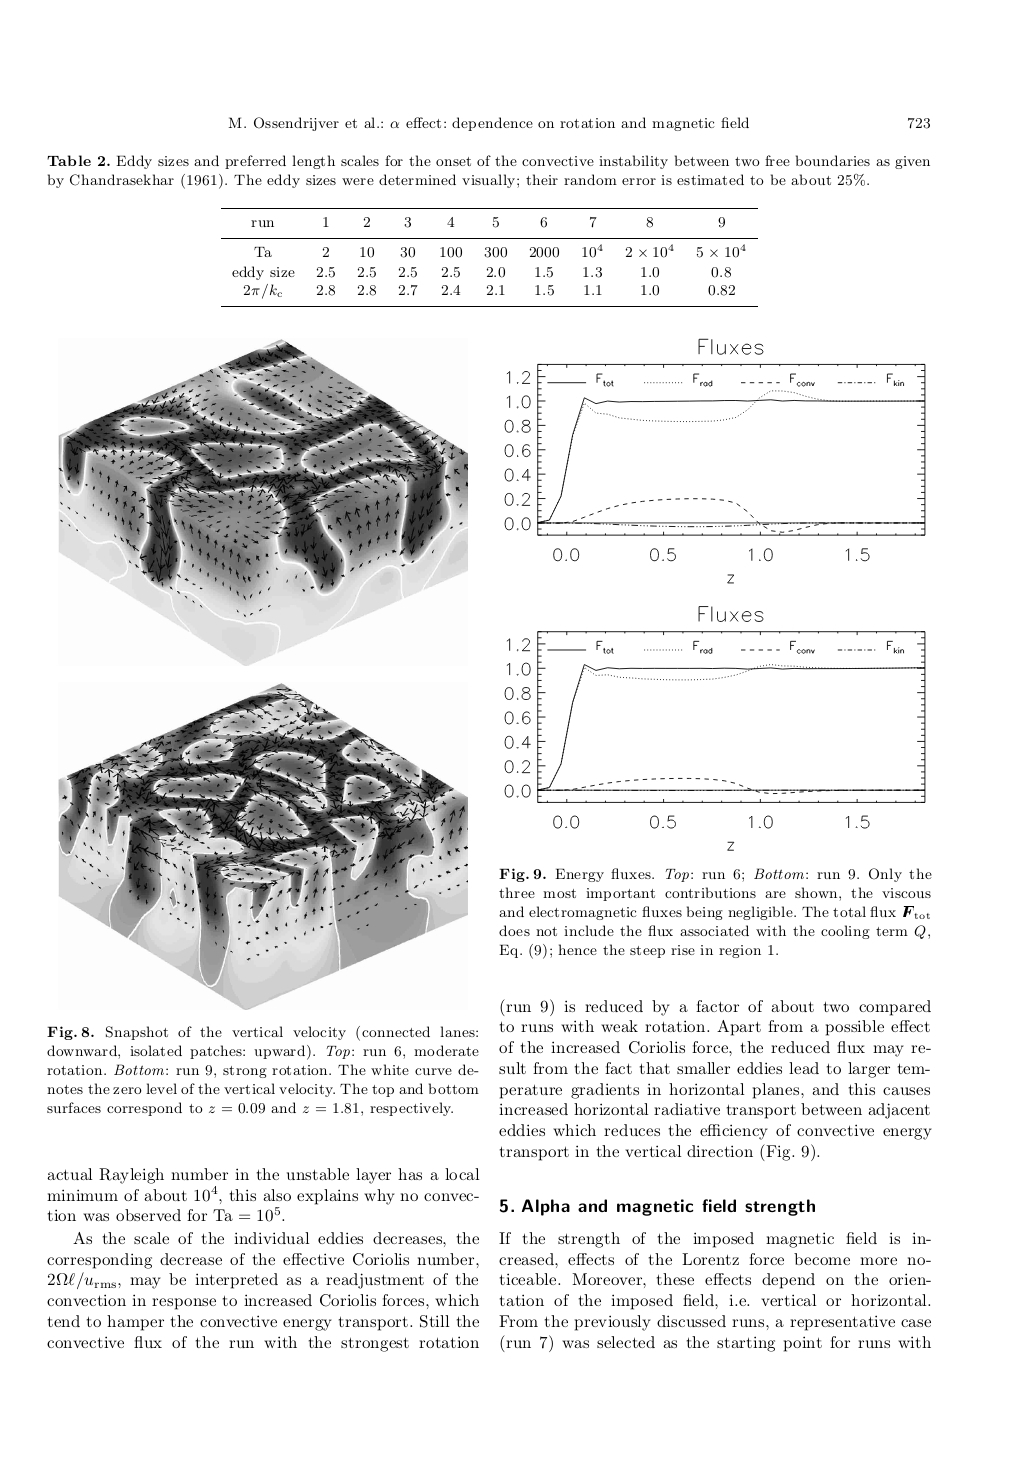Table: (221, 207, 757, 306)
figure: (58, 338, 468, 666), (58, 682, 468, 1009), (504, 363, 925, 583), (504, 631, 925, 850)
